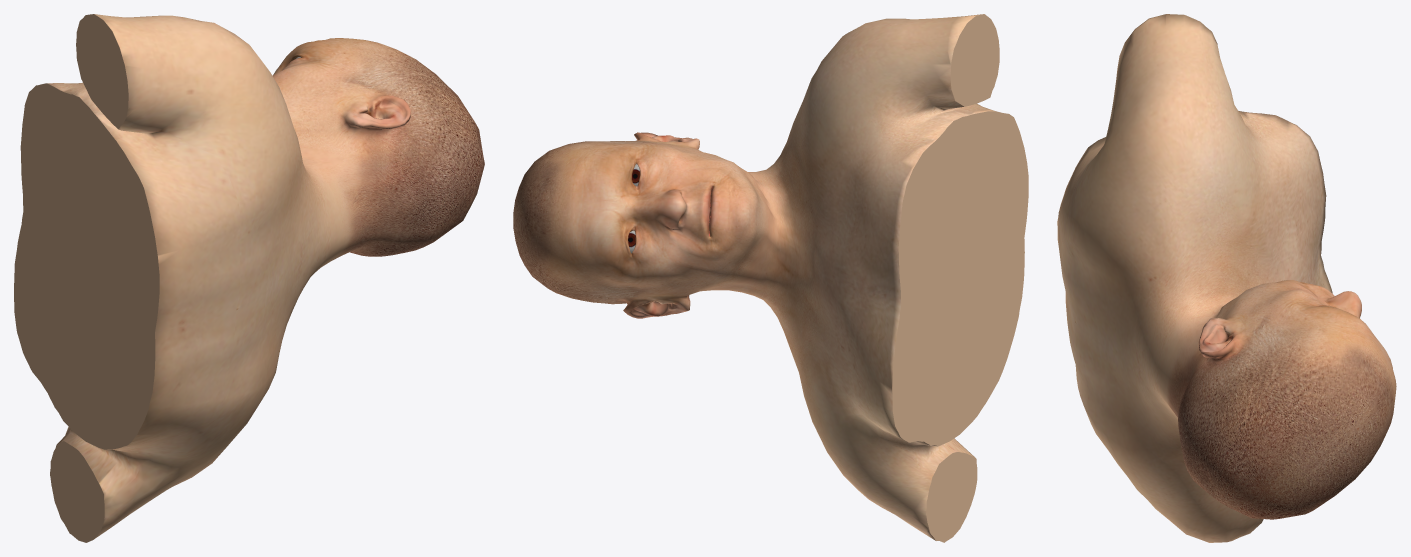
The model's file is papy_head.dae.
3 views of the same model, side by side, from view 1: azimuth 30°, elevation 25°; view 2: azimuth 150°, elevation 25°; view 3: azimuth 270°, elevation 25° (orthographic). The views are drawn at different scales.
Visible parts, largest first — view 1: papy-base; view 2: papy-base; view 3: papy-base.
Boxes of the visible parts, box(x1,y1,x2,y2) form: papy-base: box(14, 14, 484, 542); papy-base: box(513, 14, 1028, 542); papy-base: box(1057, 14, 1396, 542).
Size of the model in its own units: 0.41 by 0.2944 by 0.4994.
